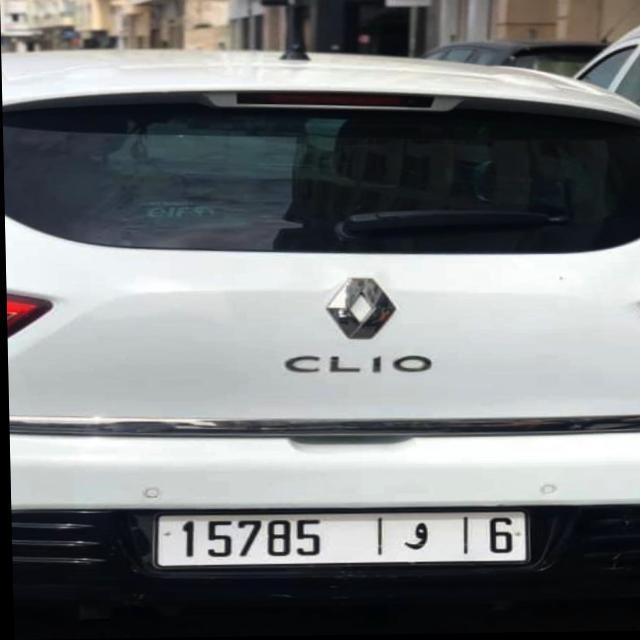License-Plate: (152, 513, 525, 568)
